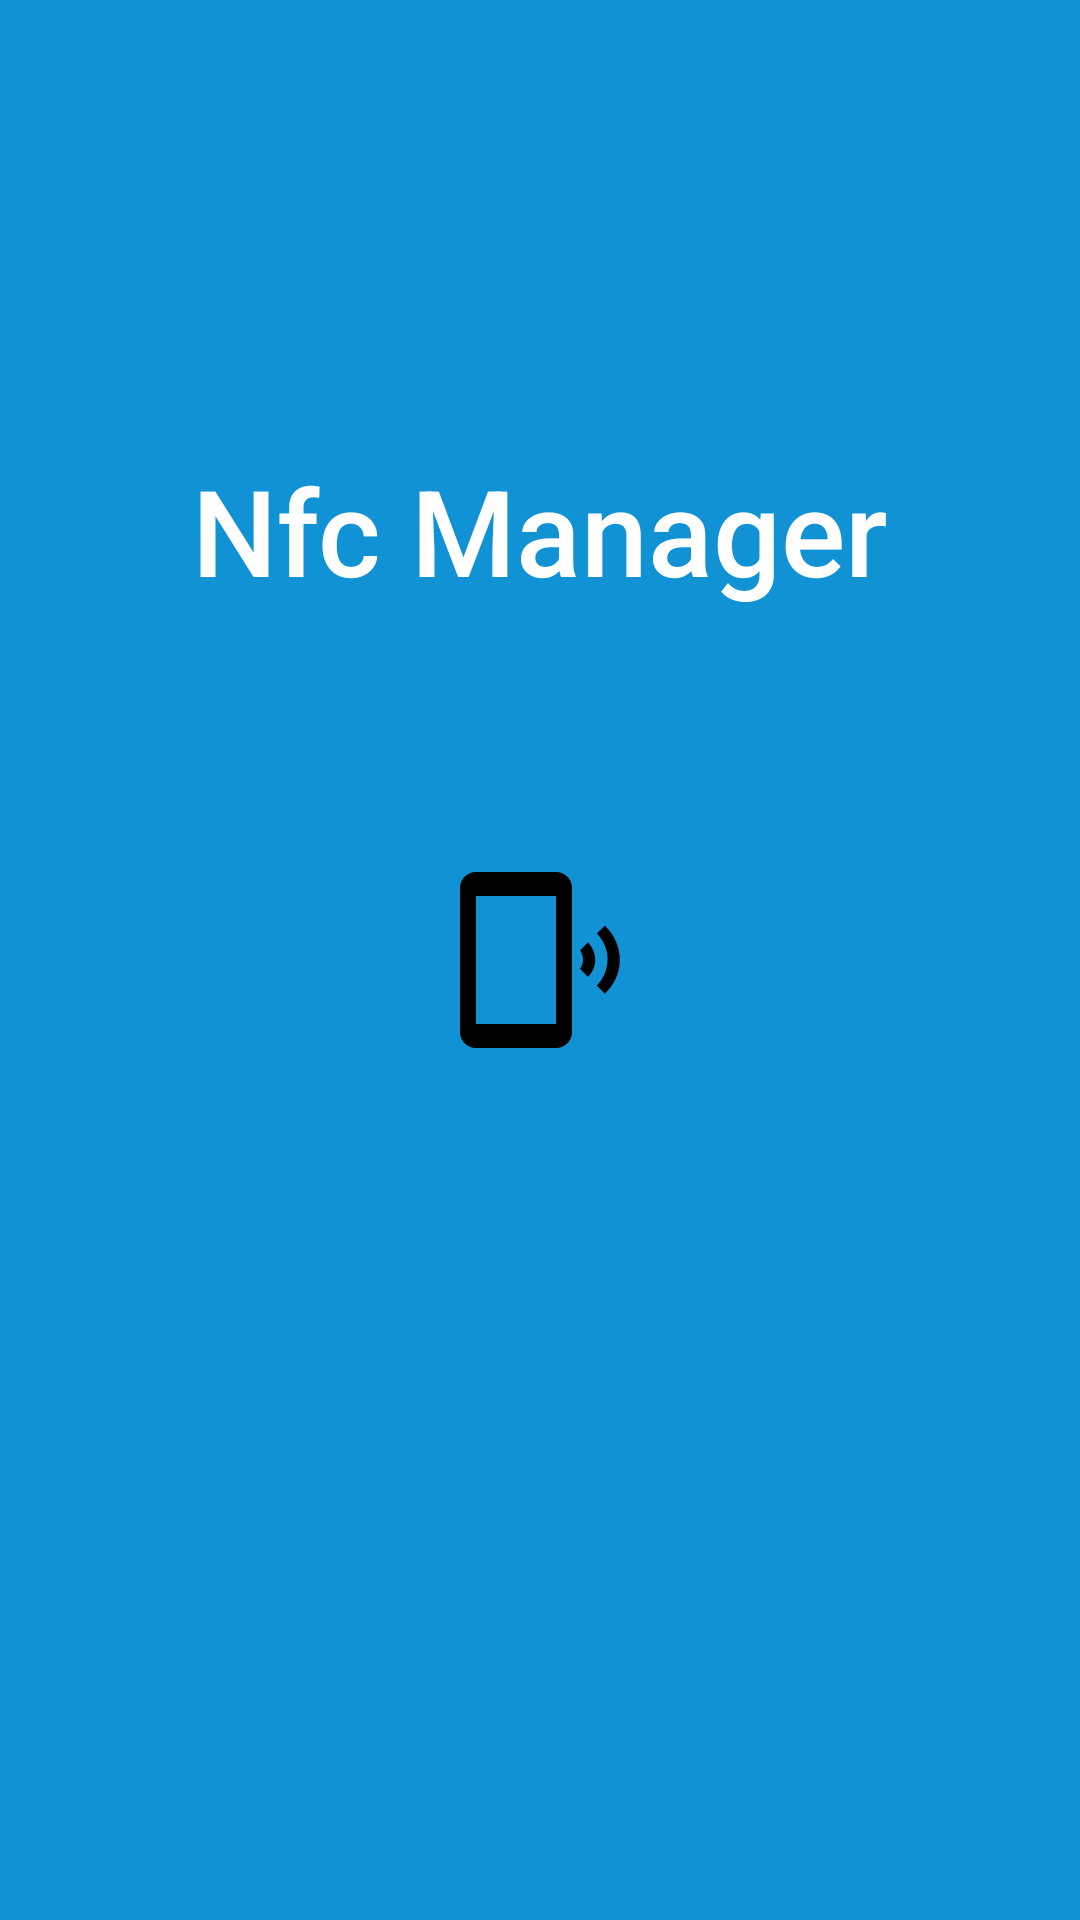

Icons on this 1080*1920 Android screen, each with its box as (x1, y1, x2, y2):
phonelink ring: (460, 872, 620, 1048)
